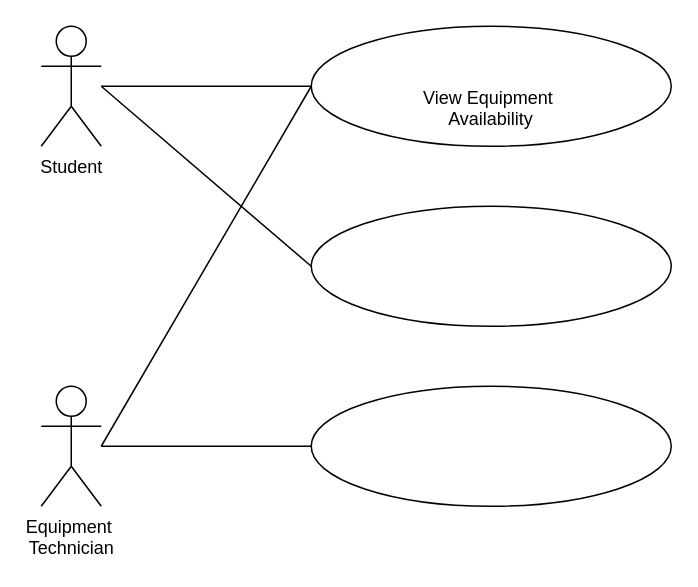
Image size: 698x587. Some labels were removed from this diagram. The centre of each missing label's shape, as x and y in pixels:
Create a Booking: pixel 490 265
Record Equipment Return: pixel 490 445
